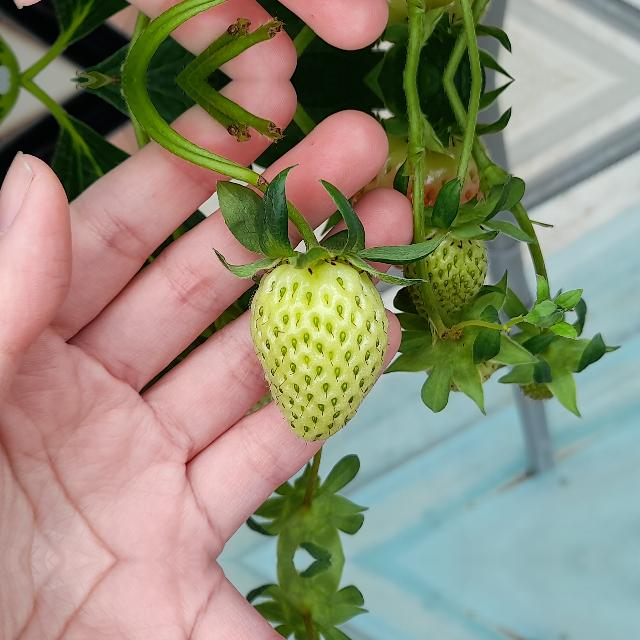Health_25: (250, 260, 388, 440), (404, 212, 500, 328)
